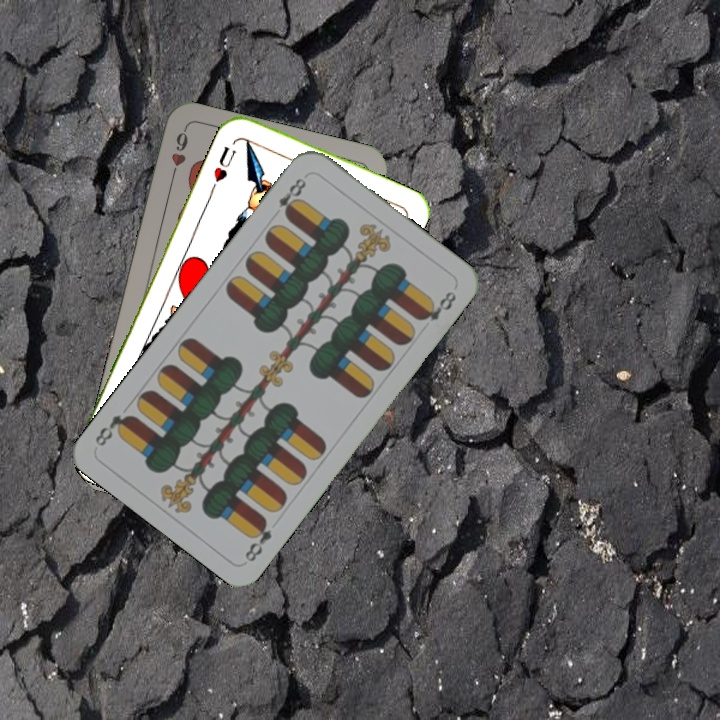E8: (240, 514, 275, 565), (274, 173, 309, 221)
H9: (166, 126, 191, 183)
HU: (209, 142, 239, 185)
